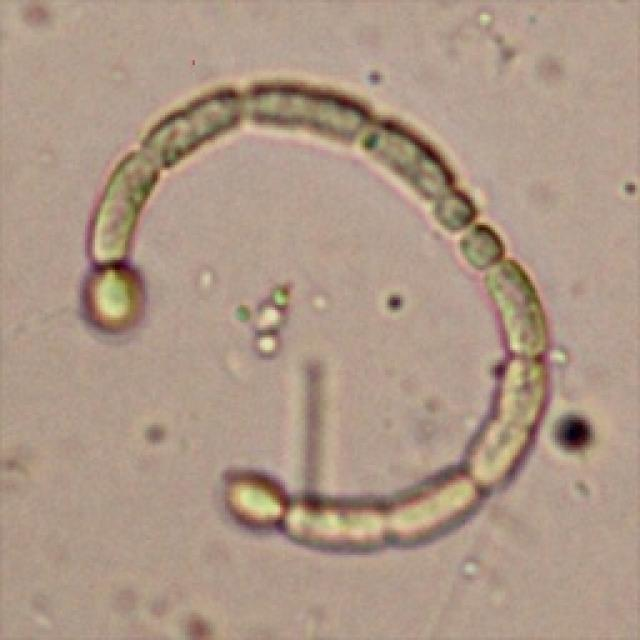Anabaena: (79, 73, 550, 557)
